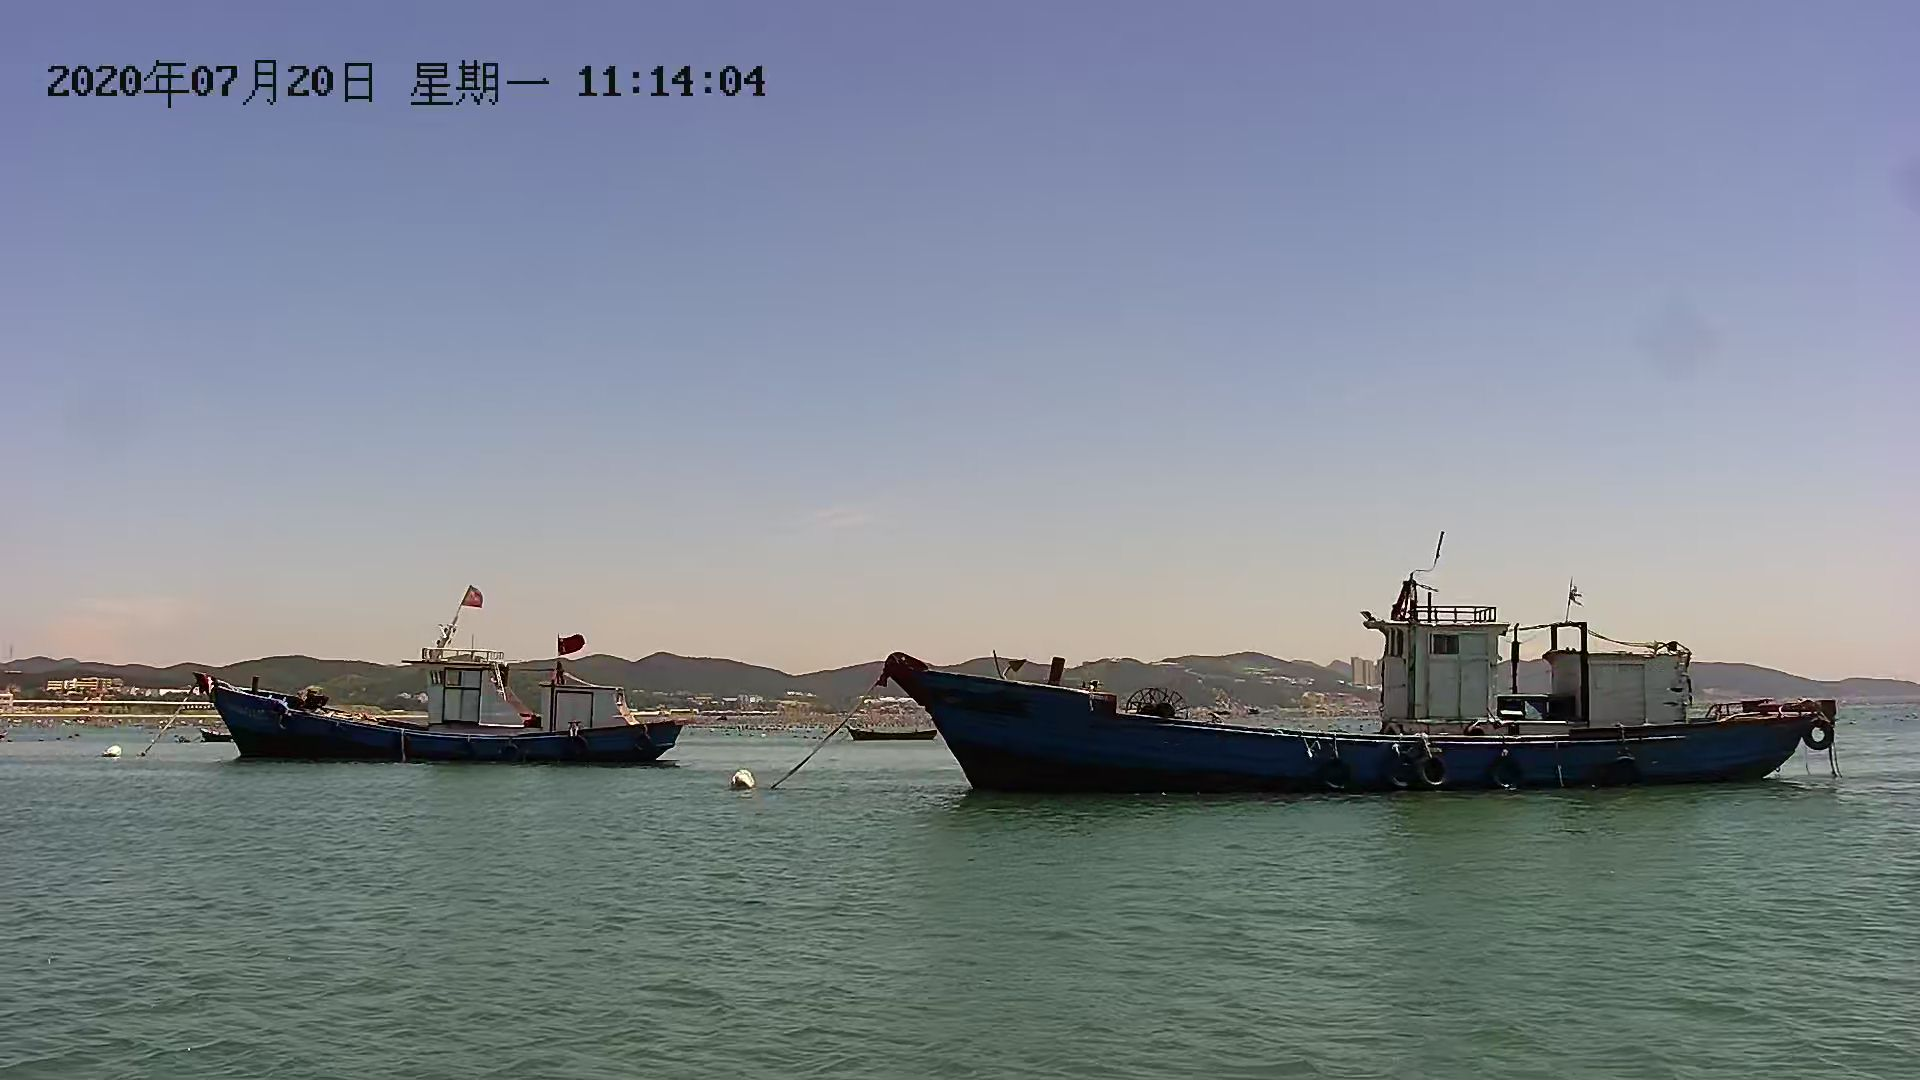ball: (723, 771, 760, 791), (105, 742, 128, 761)
boat: (876, 608, 1855, 786), (193, 622, 691, 767), (837, 724, 967, 752)
